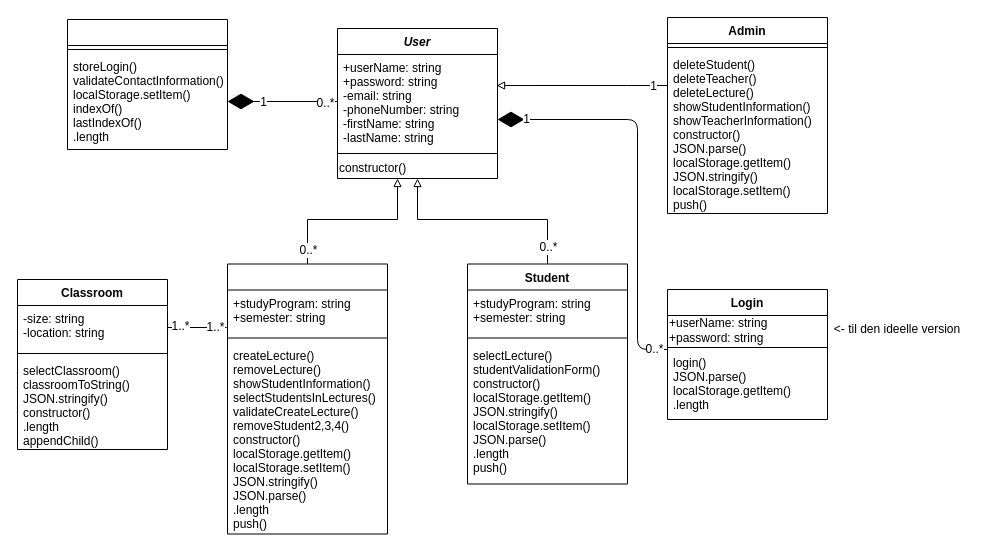
This 985x554 diagram has some shape labels left out. Here are the shapes that lost their labels. From the top down, the box of each, then its label:
(66, 18, 228, 150): Registration
(226, 263, 388, 534): Teacher
